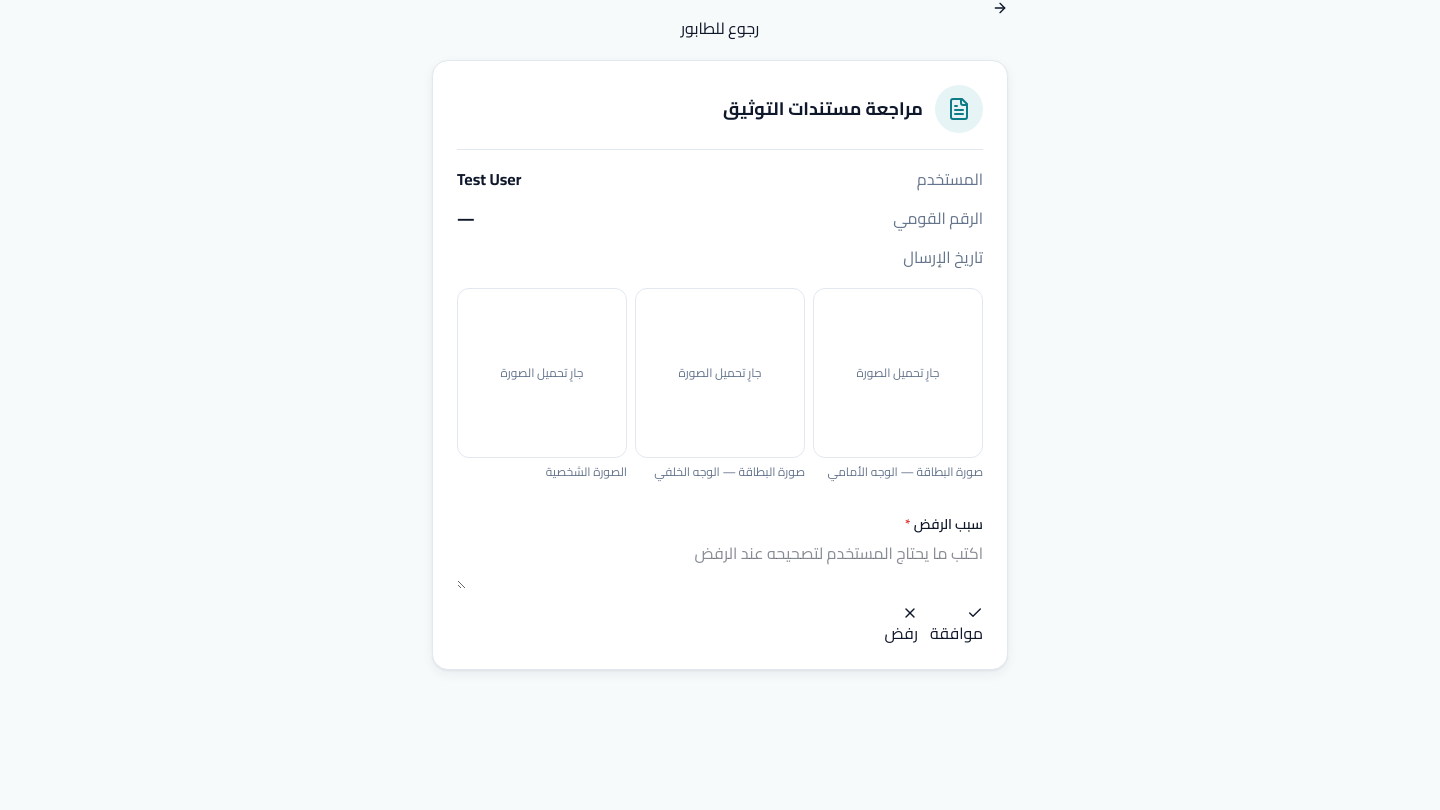
Test: AdminUserReview › closes the large gallery with Escape
The width and height of the screenshot is (1440, 810).
Click the 3rd button "جارٍ تحميل الصورة": x=898, y=373 x1=813 y1=288 x2=983 y2=458
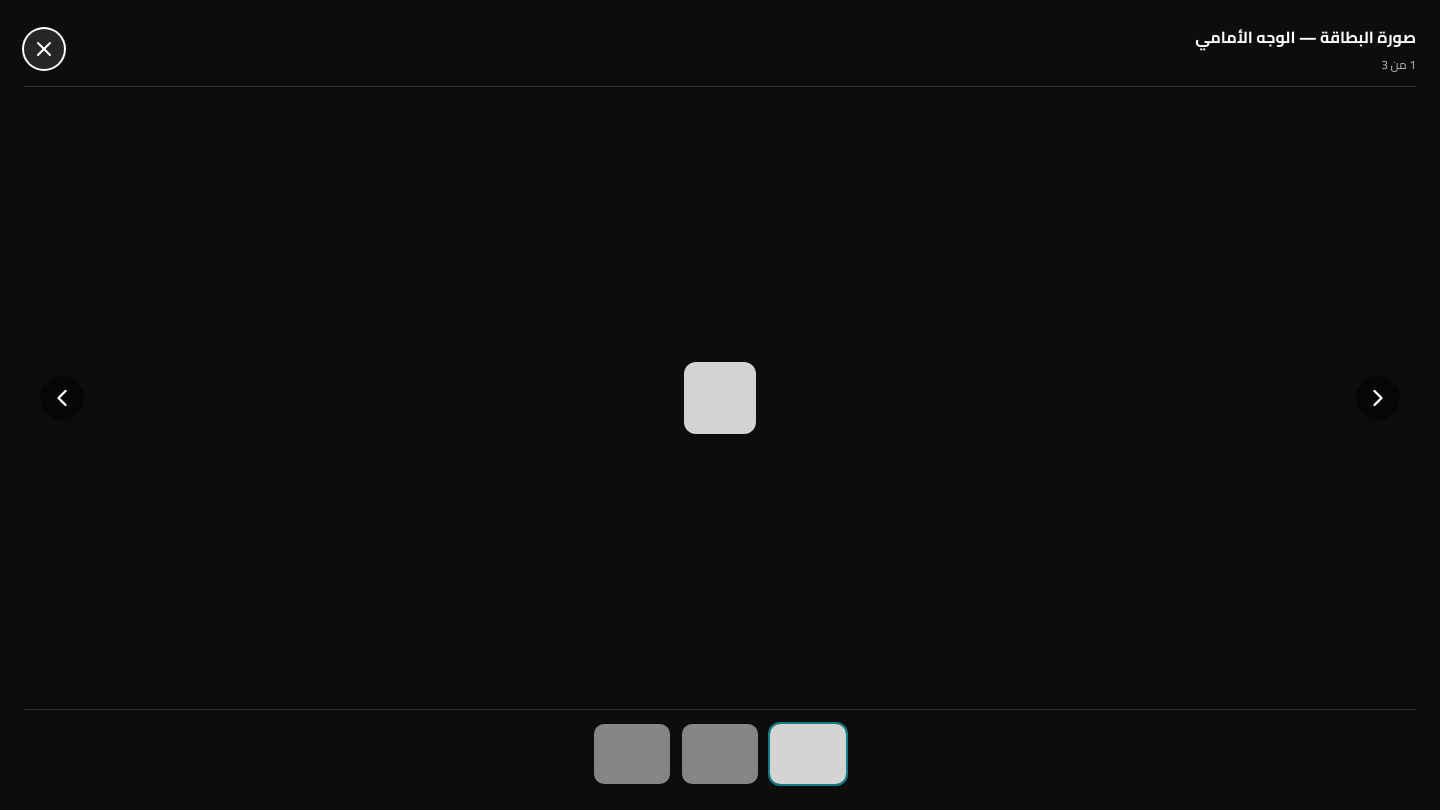
Now the dialog is shown
Press Escape
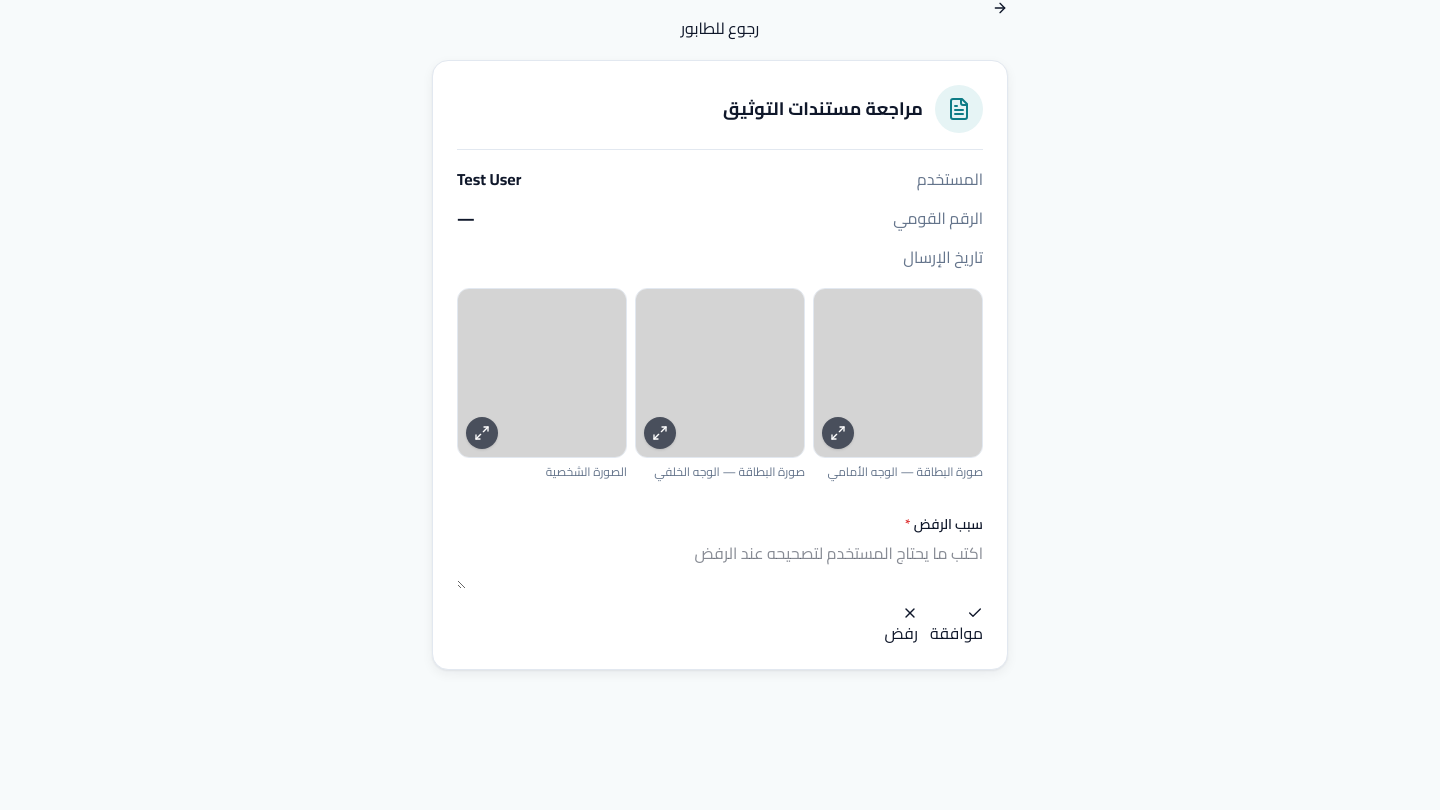
Now the dialog is gone
